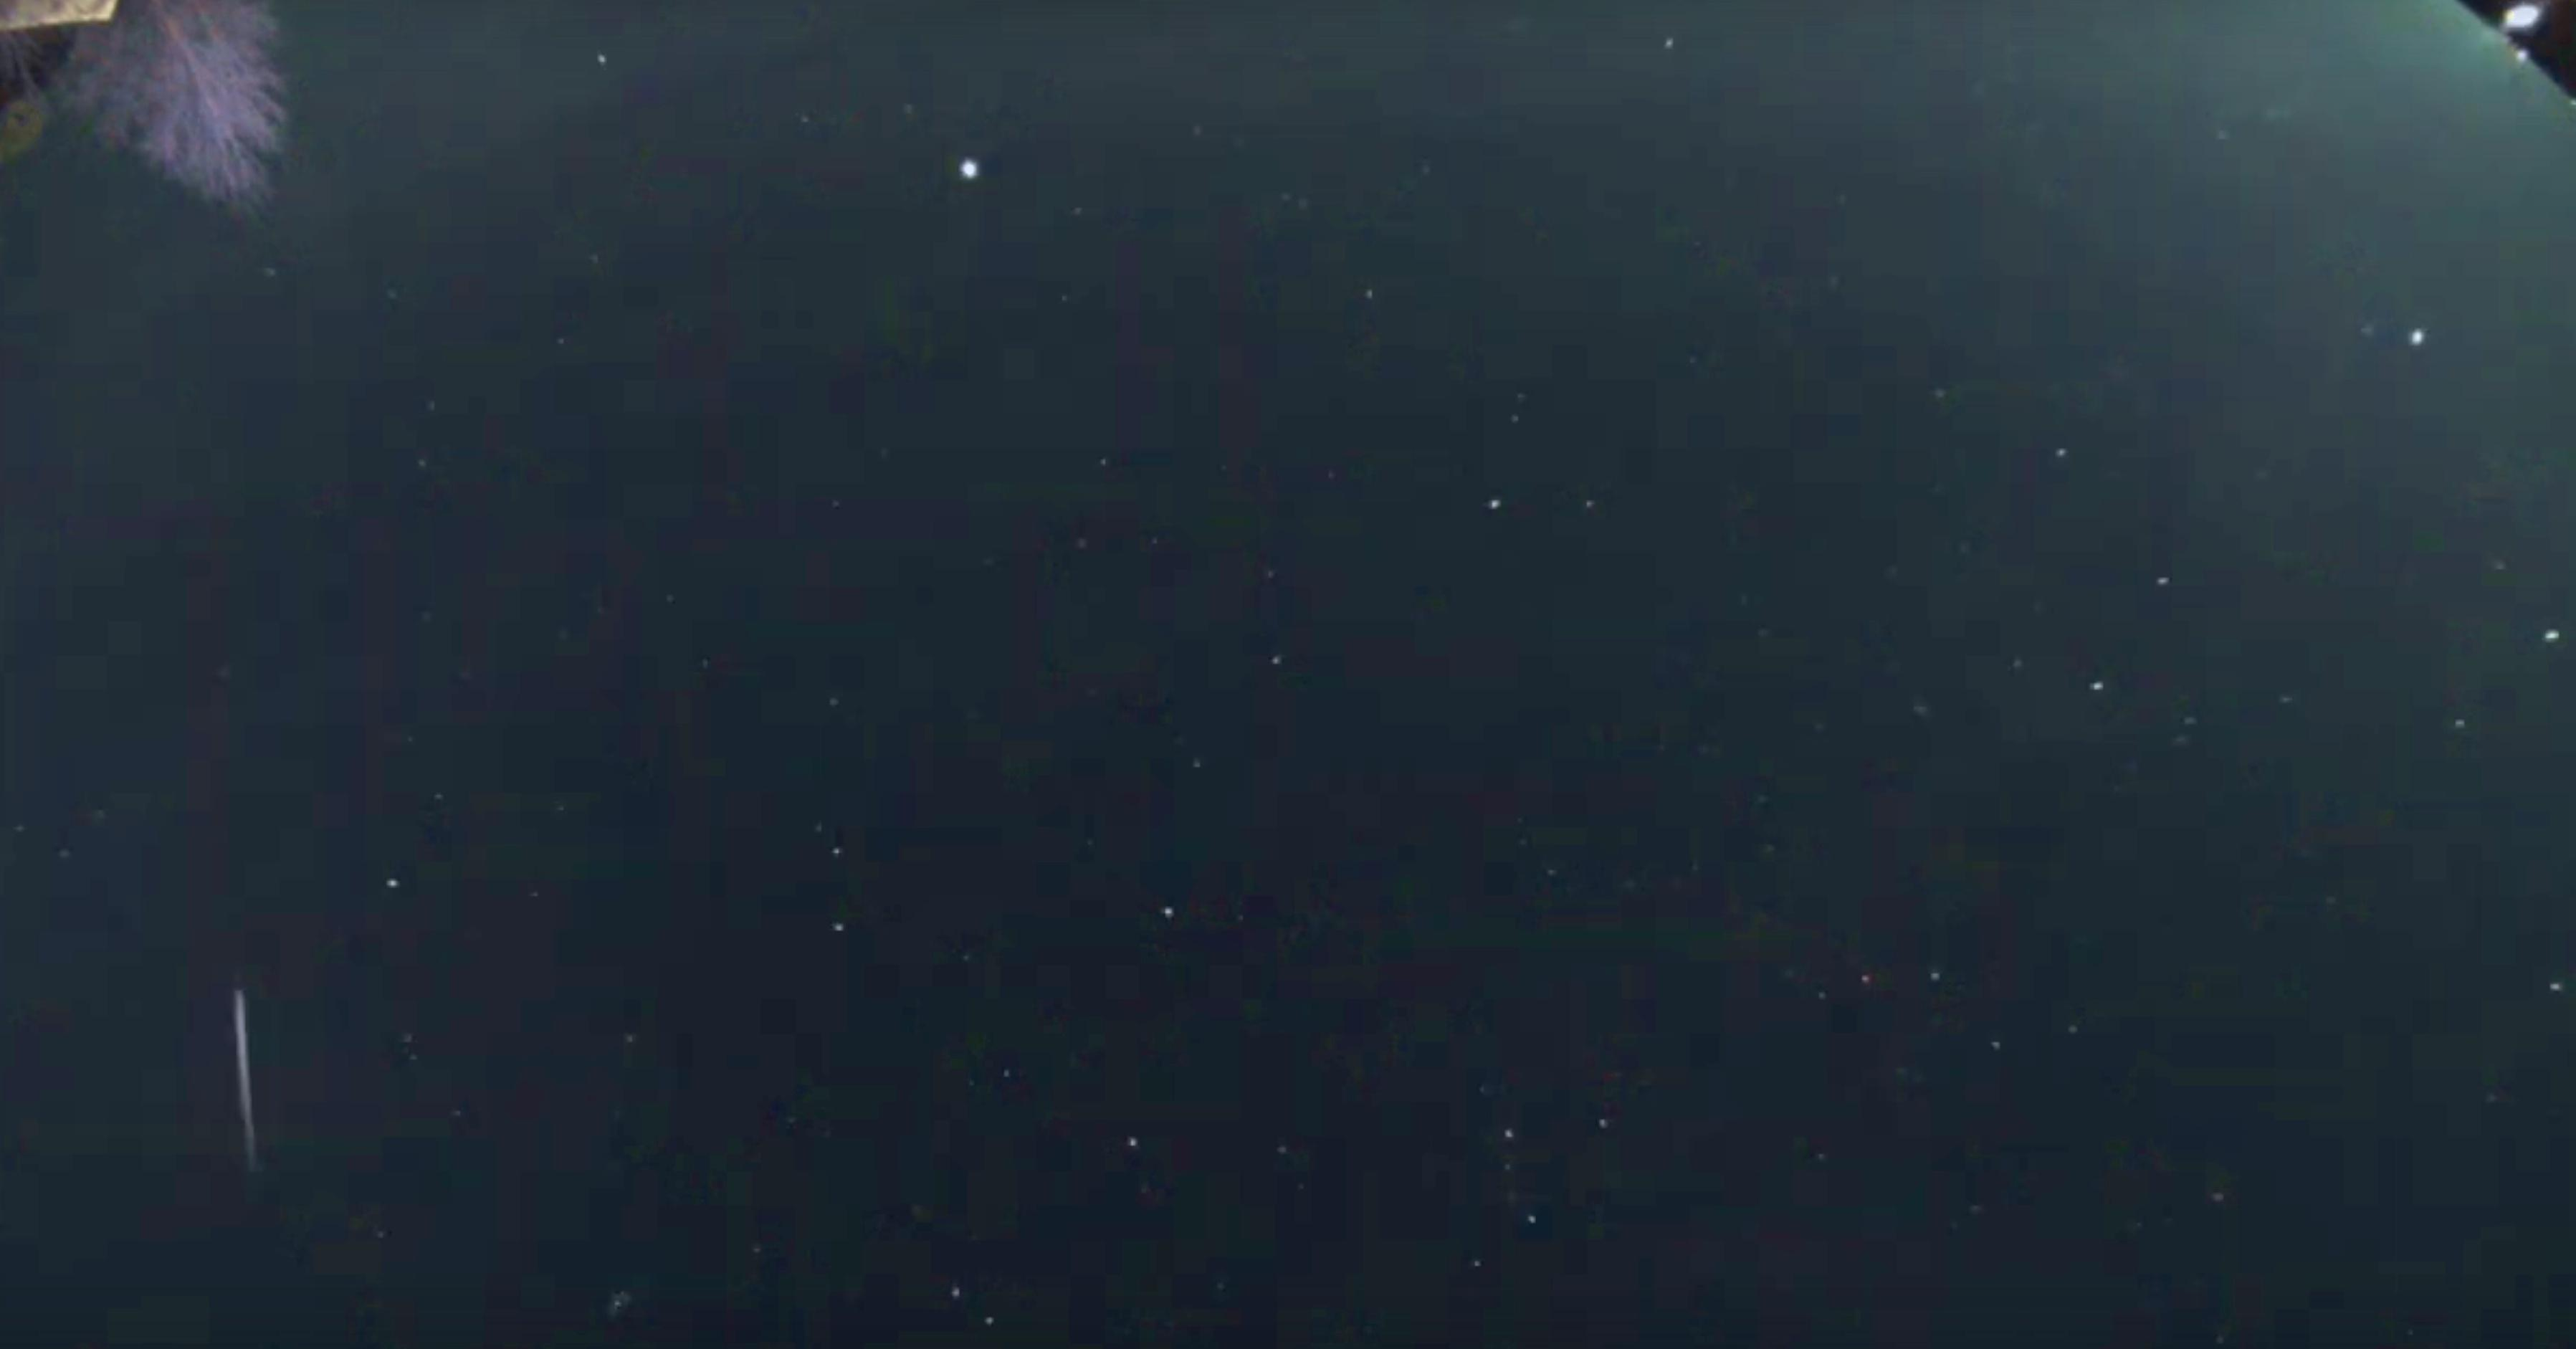meteorite: (181, 937, 303, 1155)
